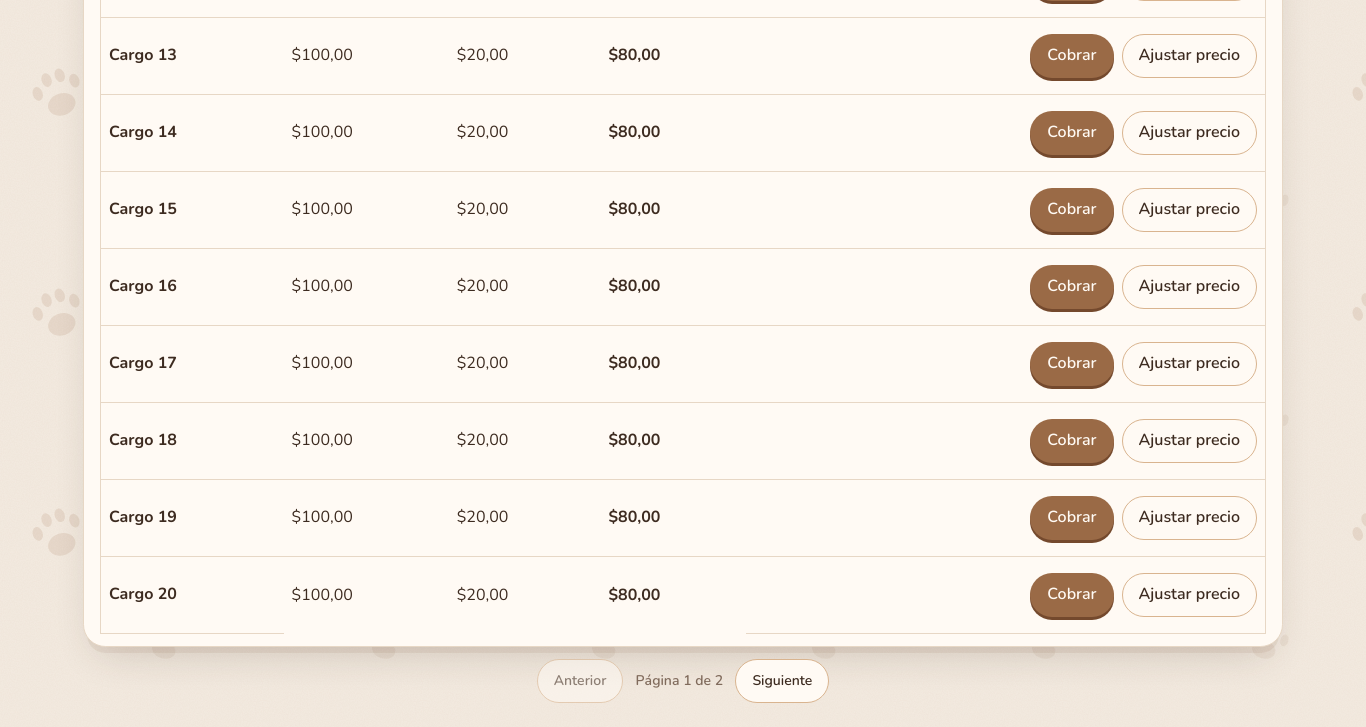
Test case: CuentaCliente › pagina el historial de cargos sin alterar los totales de la cuenta
(page scrolled)
Expected: the text "Cargo 21" is not shown
What coordinates should you click on to do the following:
click the button "Siguiente"
I would click on:
 (782, 681)
Its box is [735, 659, 829, 703].
(page scrolled)
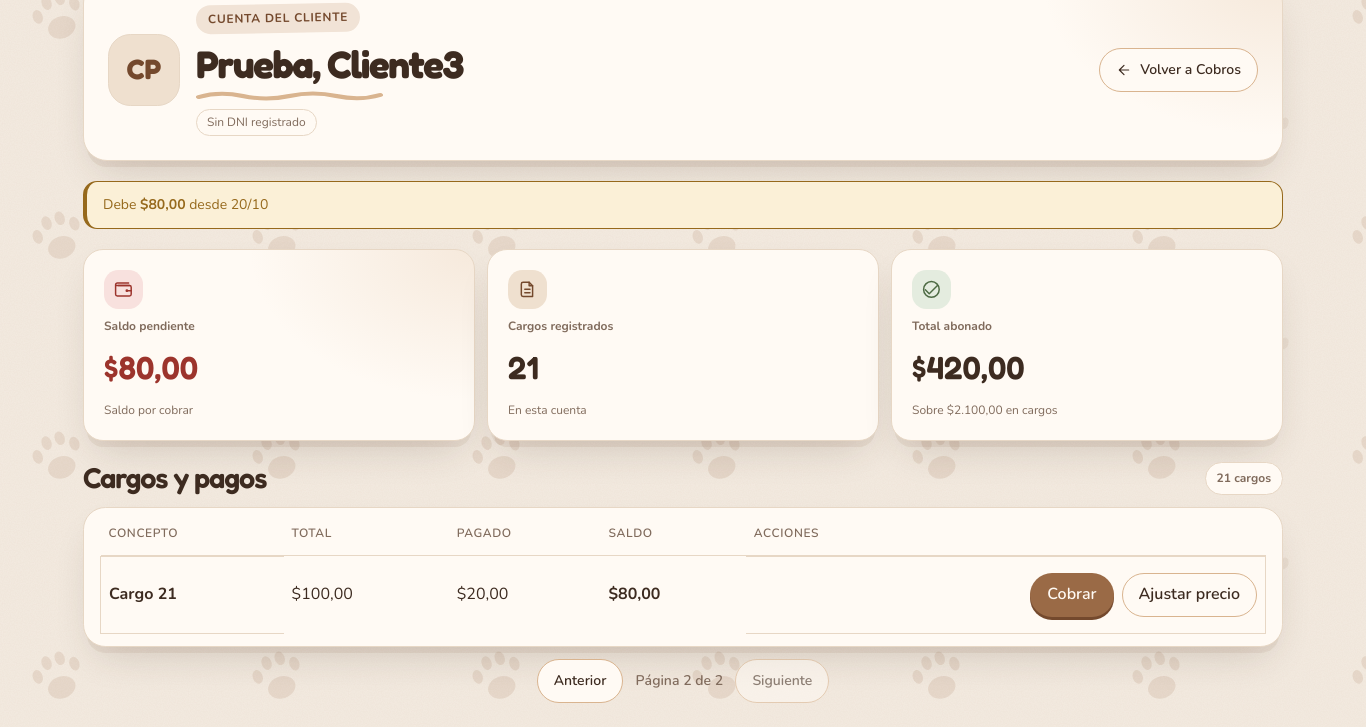
Expected: the text "Cargo 21" is shown, [109, 583, 177, 605]
Expected: the text "Página 2 de 2" is shown, [631, 670, 727, 692]
Expected: the button "Siguiente" is disabled, [735, 659, 829, 703]
